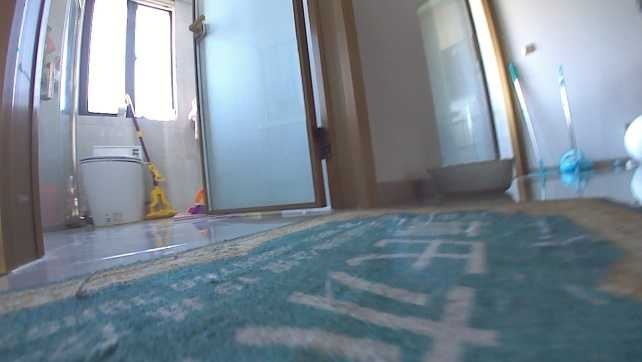blanket: (0, 194, 641, 361)
door_anno: (187, 0, 380, 215)
toilet: (75, 145, 148, 227)
